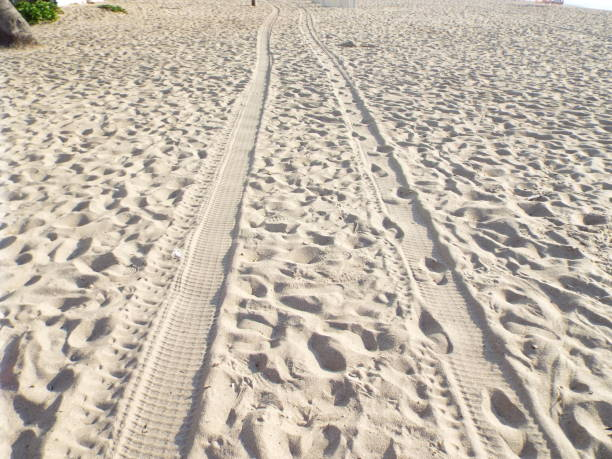vehicle_track: (301, 8, 564, 456), (109, 8, 277, 457)
